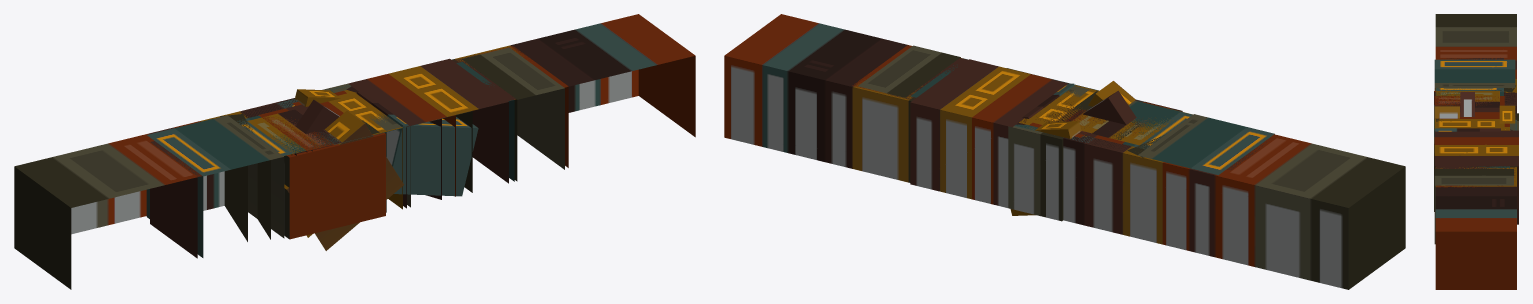
The model's file is BookShelf Books.FBX.
3 views of the same model, side by side, from view 1: azimuth 30°, elevation 25°; view 2: azimuth 150°, elevation 25°; view 3: azimuth 270°, elevation 25° (orthographic). The views are drawn at different scales.
Parts seen in each view (by area): view 1: BookShelf Book 03, BookShelf Book 05, BookShelf Book 01, BookShelf Book 02, BookShelf Book 04, BookShelf Book 06, BookShelf Book 07, BookShelf Book 09; view 2: BookShelf Book 03, BookShelf Book 05, BookShelf Book 08, BookShelf Book 02, BookShelf Book 04, BookShelf Book 09, BookShelf Book 06; view 3: BookShelf Book 03, BookShelf Book 05, BookShelf Book 06, BookShelf Book 04, BookShelf Book 02, BookShelf Book 09, BookShelf Book 01, BookShelf Book 07.
Boxes of the visible parts, <box> form: BookShelf Book 03: <box>14,14,695,289</box>; BookShelf Book 05: <box>146,47,564,257</box>; BookShelf Book 01: <box>284,92,478,239</box>; BookShelf Book 02: <box>150,46,568,258</box>; BookShelf Book 04: <box>220,62,514,241</box>; BookShelf Book 06: <box>258,86,443,209</box>; BookShelf Book 07: <box>240,85,472,192</box>; BookShelf Book 09: <box>295,89,455,196</box>; BookShelf Book 03: <box>724,14,1405,289</box>; BookShelf Book 05: <box>858,45,1274,207</box>; BookShelf Book 08: <box>1008,126,1063,221</box>; BookShelf Book 02: <box>852,45,1276,170</box>; BookShelf Book 04: <box>911,58,1183,157</box>; BookShelf Book 09: <box>1010,72,1142,215</box>; BookShelf Book 06: <box>1016,85,1170,144</box>; BookShelf Book 03: <box>1435,14,1516,289</box>; BookShelf Book 05: <box>1434,59,1518,244</box>; BookShelf Book 06: <box>1434,96,1512,130</box>; BookShelf Book 04: <box>1435,85,1515,168</box>; BookShelf Book 02: <box>1436,58,1515,187</box>; BookShelf Book 09: <box>1499,105,1515,123</box>; BookShelf Book 01: <box>1434,91,1500,131</box>; BookShelf Book 07: <box>1434,92,1515,211</box>.
Bounding box in the file's own units: 195 × 37.99 × 32.17.
